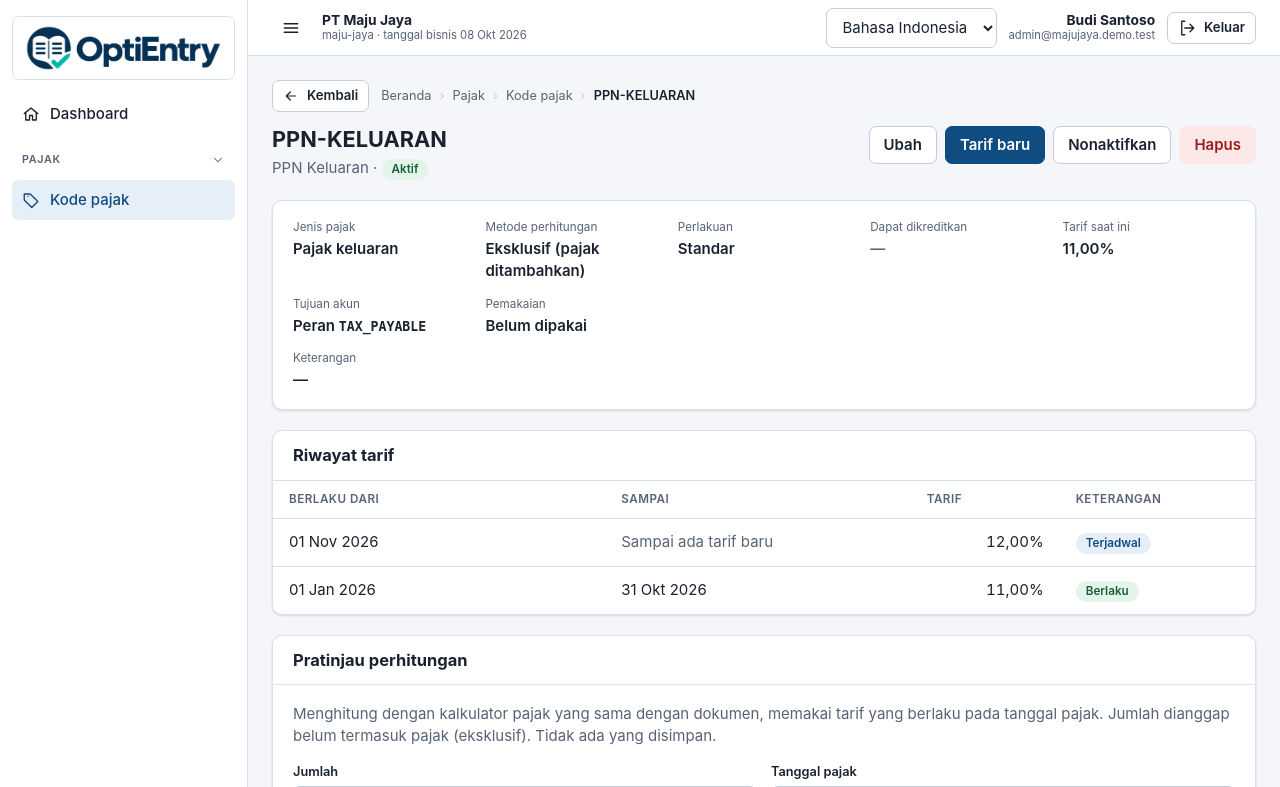
Test: tax code detail › tells when the new rate must start by naming the start of the latest rate
The image size is (1280, 787).
Click the button "Tarif baru" at coordinates (995, 145), box [945,126,1045,164]
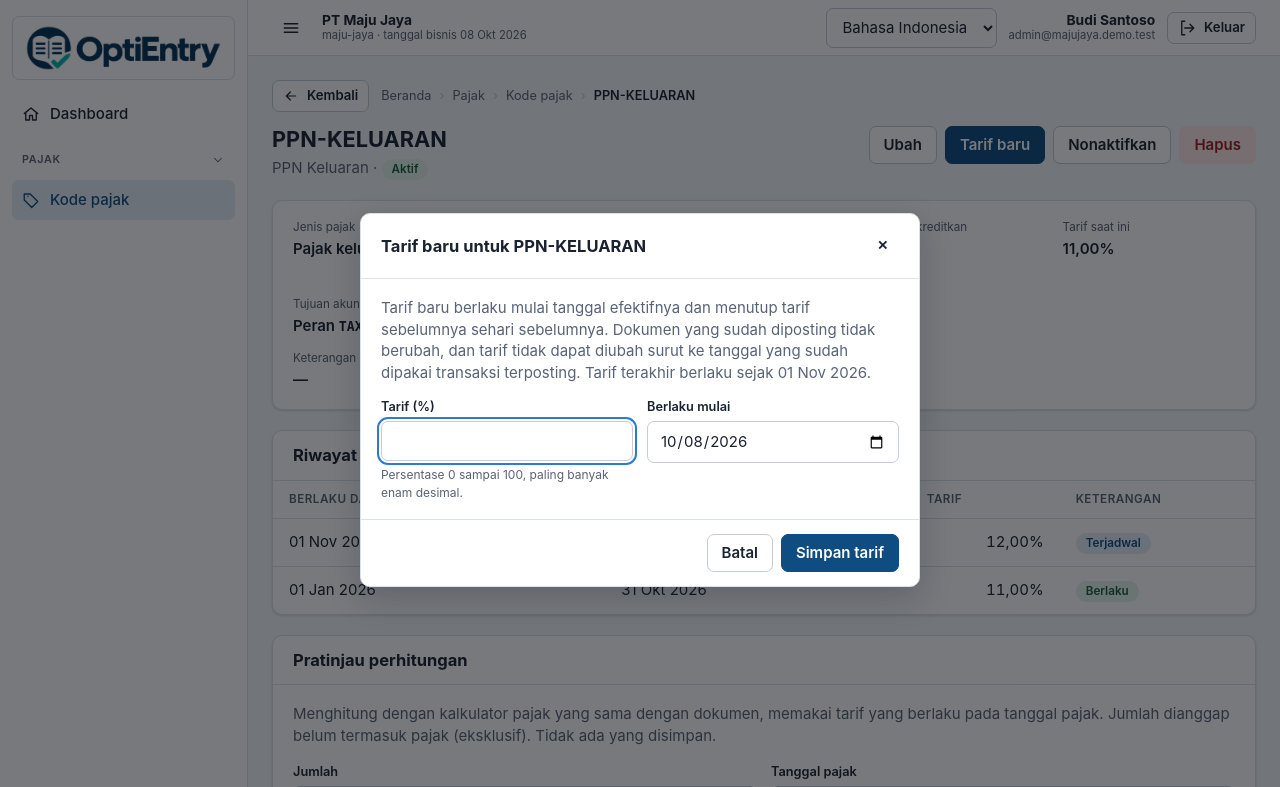
Type "10" into the field labelled "Tarif (%)" at coordinates (507, 441), box [381,421,633,461]
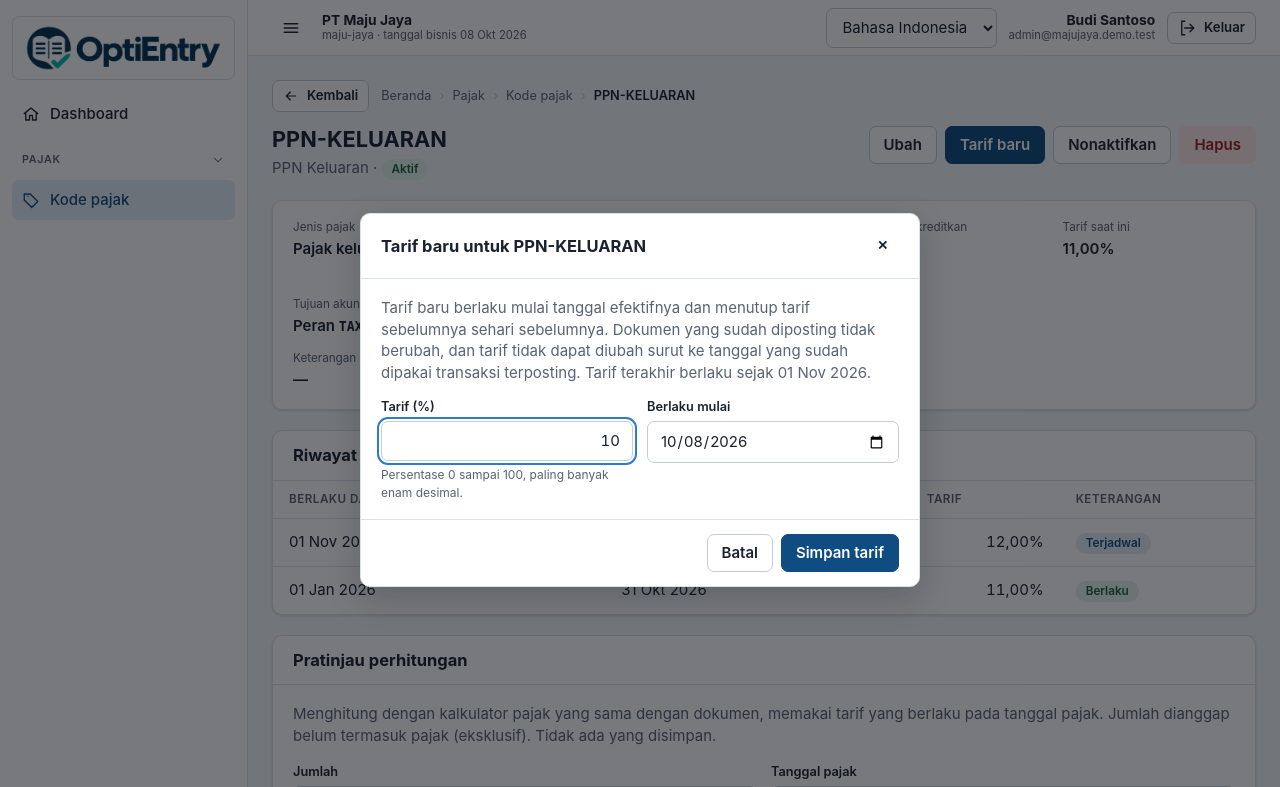
Click the button "Simpan tarif" at coordinates (840, 553), box [781,534,899,572]
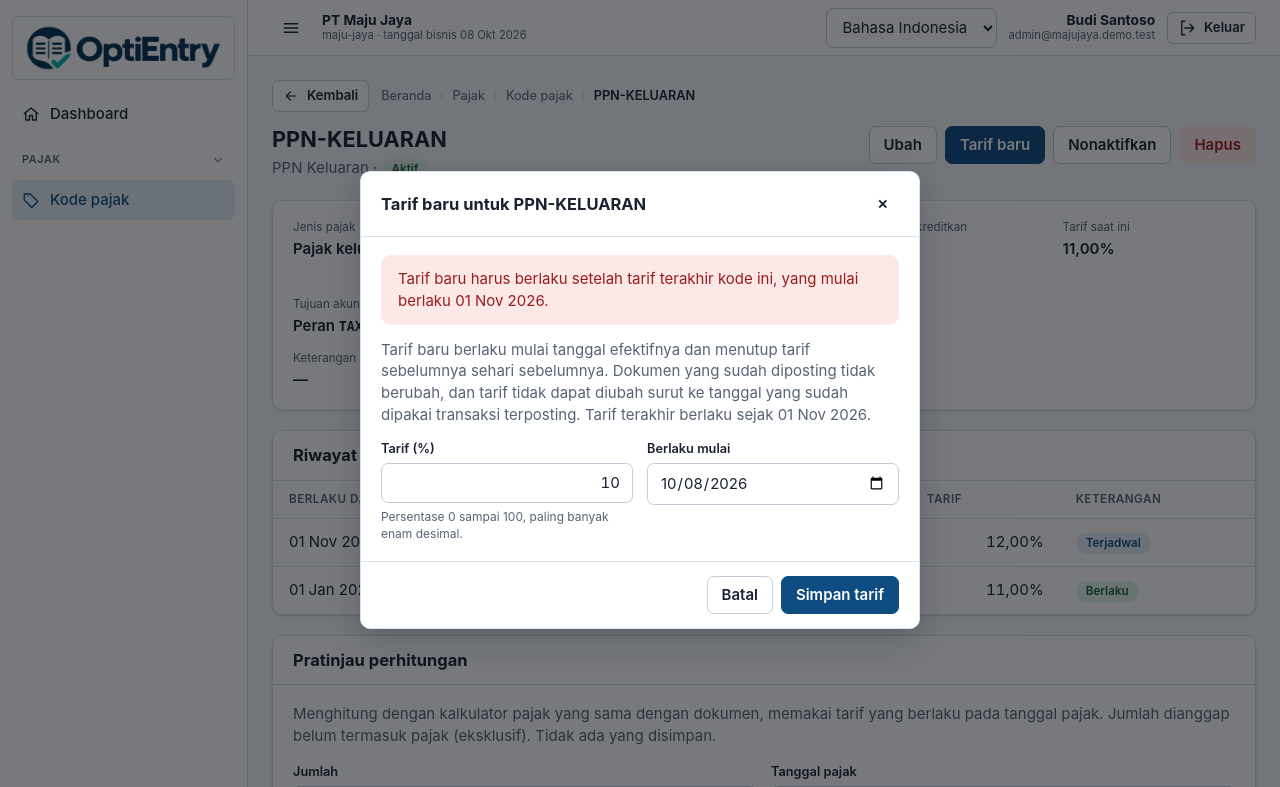
Result: the text "setelah tarif terakhir kode ini" is shown at [398,269,858,310]
